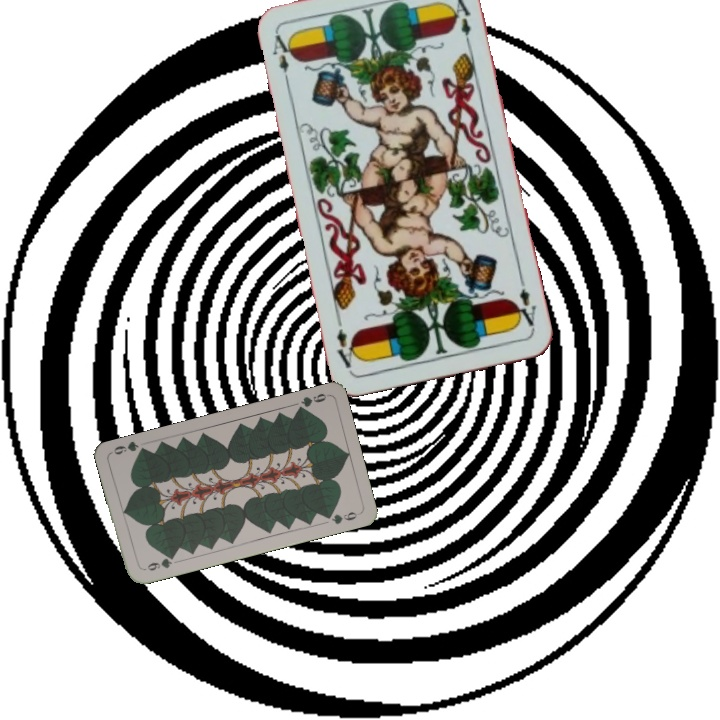EA: (510, 274, 539, 333), (268, 29, 297, 88)
G9: (292, 389, 330, 415), (143, 551, 177, 573)
